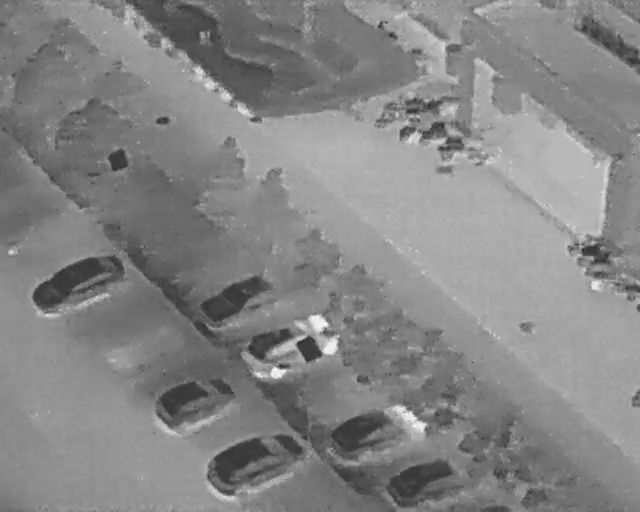Bicycle: (415, 117, 448, 146), (566, 232, 602, 254), (575, 252, 621, 269), (375, 16, 403, 43), (470, 148, 502, 170), (584, 266, 625, 280), (438, 144, 465, 161), (398, 126, 421, 142), (615, 283, 640, 296), (422, 97, 443, 111), (374, 115, 394, 126), (386, 100, 407, 110), (404, 97, 423, 108), (405, 108, 422, 117)
Car: (194, 412, 313, 510), (233, 297, 347, 394), (321, 386, 432, 479), (18, 241, 135, 326), (145, 358, 244, 442), (190, 260, 287, 336), (381, 445, 461, 509)
